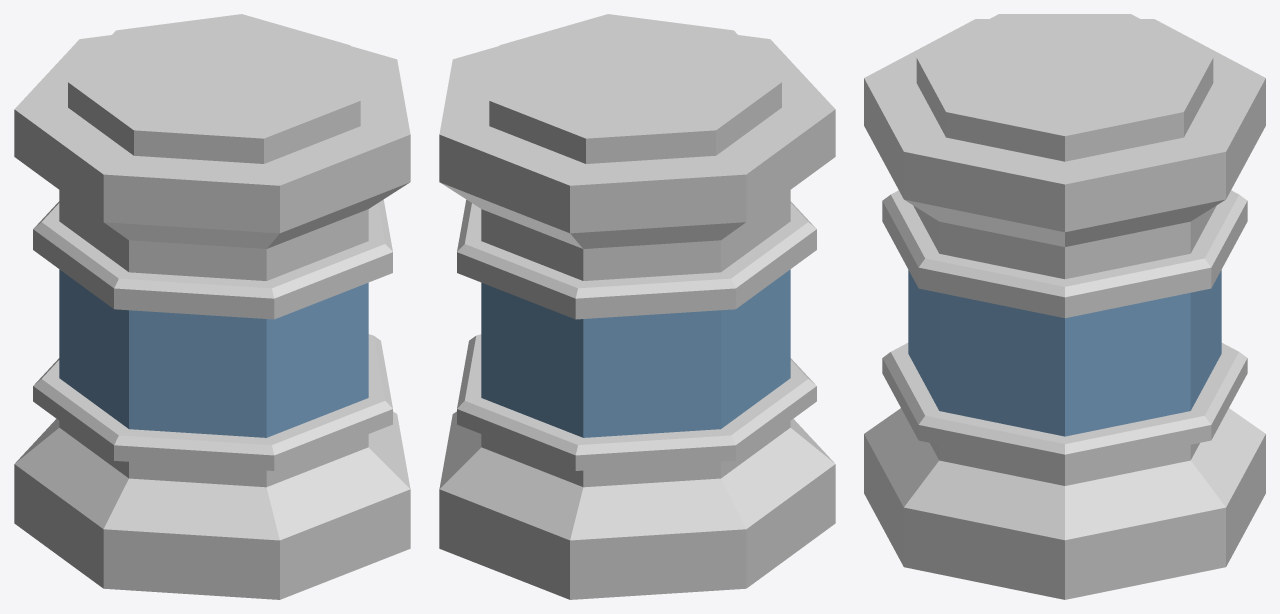
Rendered from Batterie.fbx.
The picture shows the model from 3 angles, left to right: view 1: azimuth 30°, elevation 25°; view 2: azimuth 150°, elevation 25°; view 3: azimuth 270°, elevation 25°; orthographic projection.
Visible parts, largest first — view 1: DD_Battery, Battery_Fluid; view 2: DD_Battery, Battery_Fluid; view 3: DD_Battery, Battery_Fluid.
Boxes of the visible parts, x1=… form: DD_Battery: x1=14, y1=14, x2=410, y2=599; Battery_Fluid: x1=59, y1=269, x2=368, y2=437; DD_Battery: x1=439, y1=14, x2=835, y2=599; Battery_Fluid: x1=481, y1=269, x2=790, y2=437; DD_Battery: x1=864, y1=14, x2=1265, y2=599; Battery_Fluid: x1=908, y1=270, x2=1221, y2=436.
Bounding box in the file's own units: 42.37 × 52.61 × 43.46.
